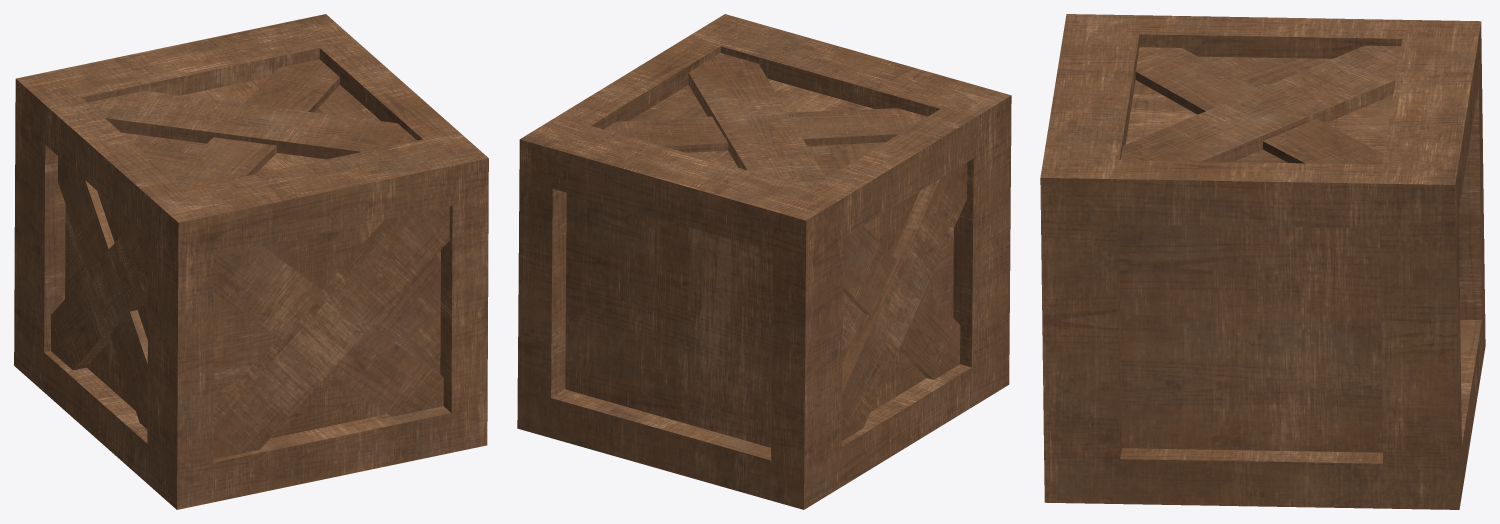
File: Cajota.fbx
3 renders of one model, left to right at view 1: azimuth 30°, elevation 25°; view 2: azimuth 150°, elevation 25°; view 3: azimuth 270°, elevation 25°, orthographic. The views are drawn at different scales.
Parts seen in each view (by area): view 1: Cajota; view 2: Cajota; view 3: Cajota.
Boxes of the visible parts, x1,y1,x2,y2 form: Cajota: (14, 14, 488, 509); Cajota: (517, 14, 1011, 509); Cajota: (1040, 14, 1485, 509).
Bounding box in the file's own units: 976 × 852 × 1043.
Materials: 1 (1 with a texture image).
